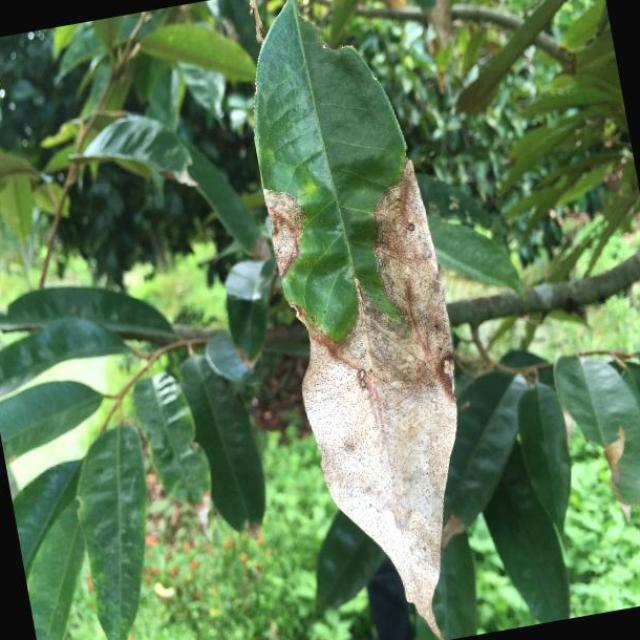Leaf Blight: (218, 0, 513, 640)
